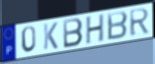0: (20, 25, 37, 54)
B: (62, 17, 84, 49), (107, 10, 129, 42)
H: (85, 13, 106, 46)
K: (42, 21, 59, 51)
R: (128, 7, 151, 38)
